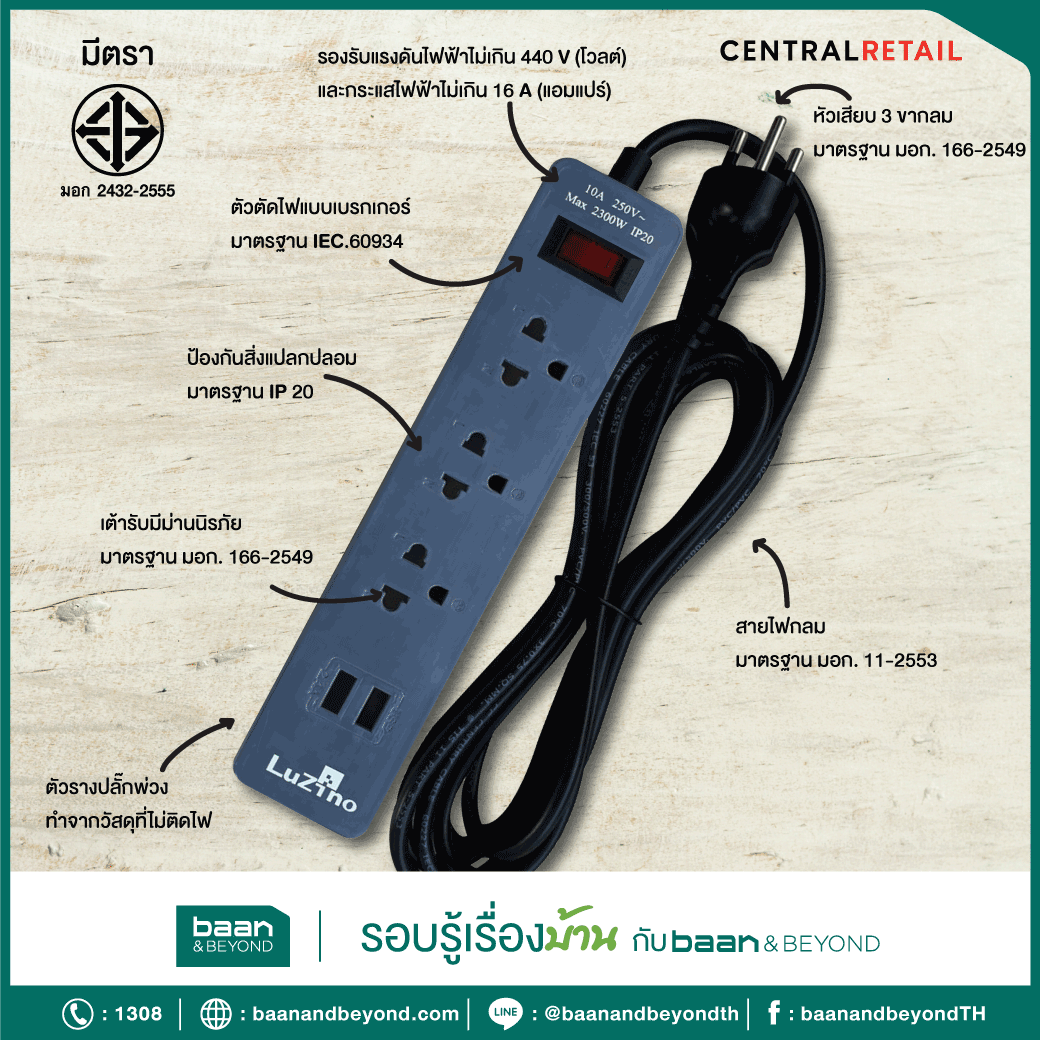Three_eye_plug: (226, 147, 688, 845)
